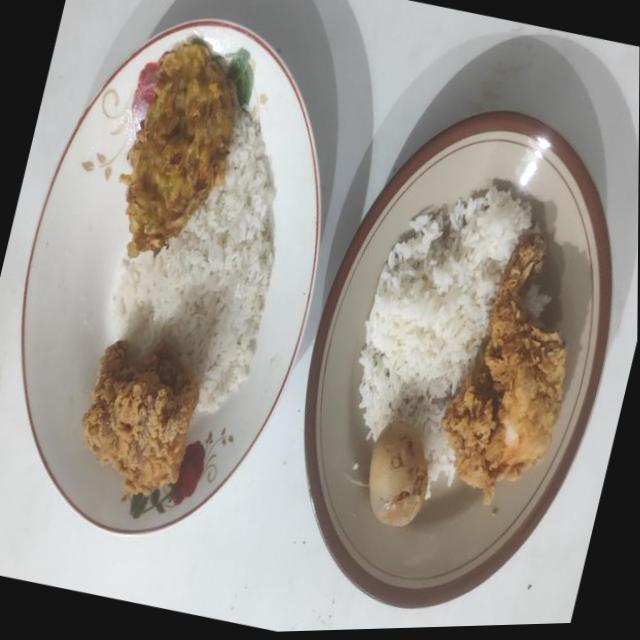nasi_putih: (358, 183, 532, 483), (112, 109, 275, 412)
